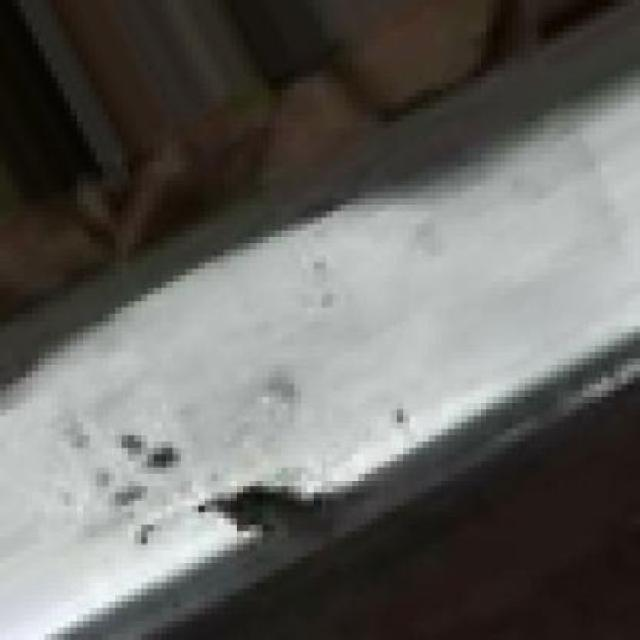defective: (0, 174, 638, 638)
